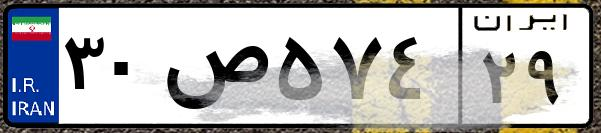0: (110, 28, 158, 98)
2: (475, 38, 525, 113)
3: (57, 26, 110, 100)
4: (385, 28, 445, 110)
5: (270, 28, 330, 110)
7: (330, 28, 385, 110)
9: (525, 38, 570, 115)
ص: (158, 20, 270, 120)
